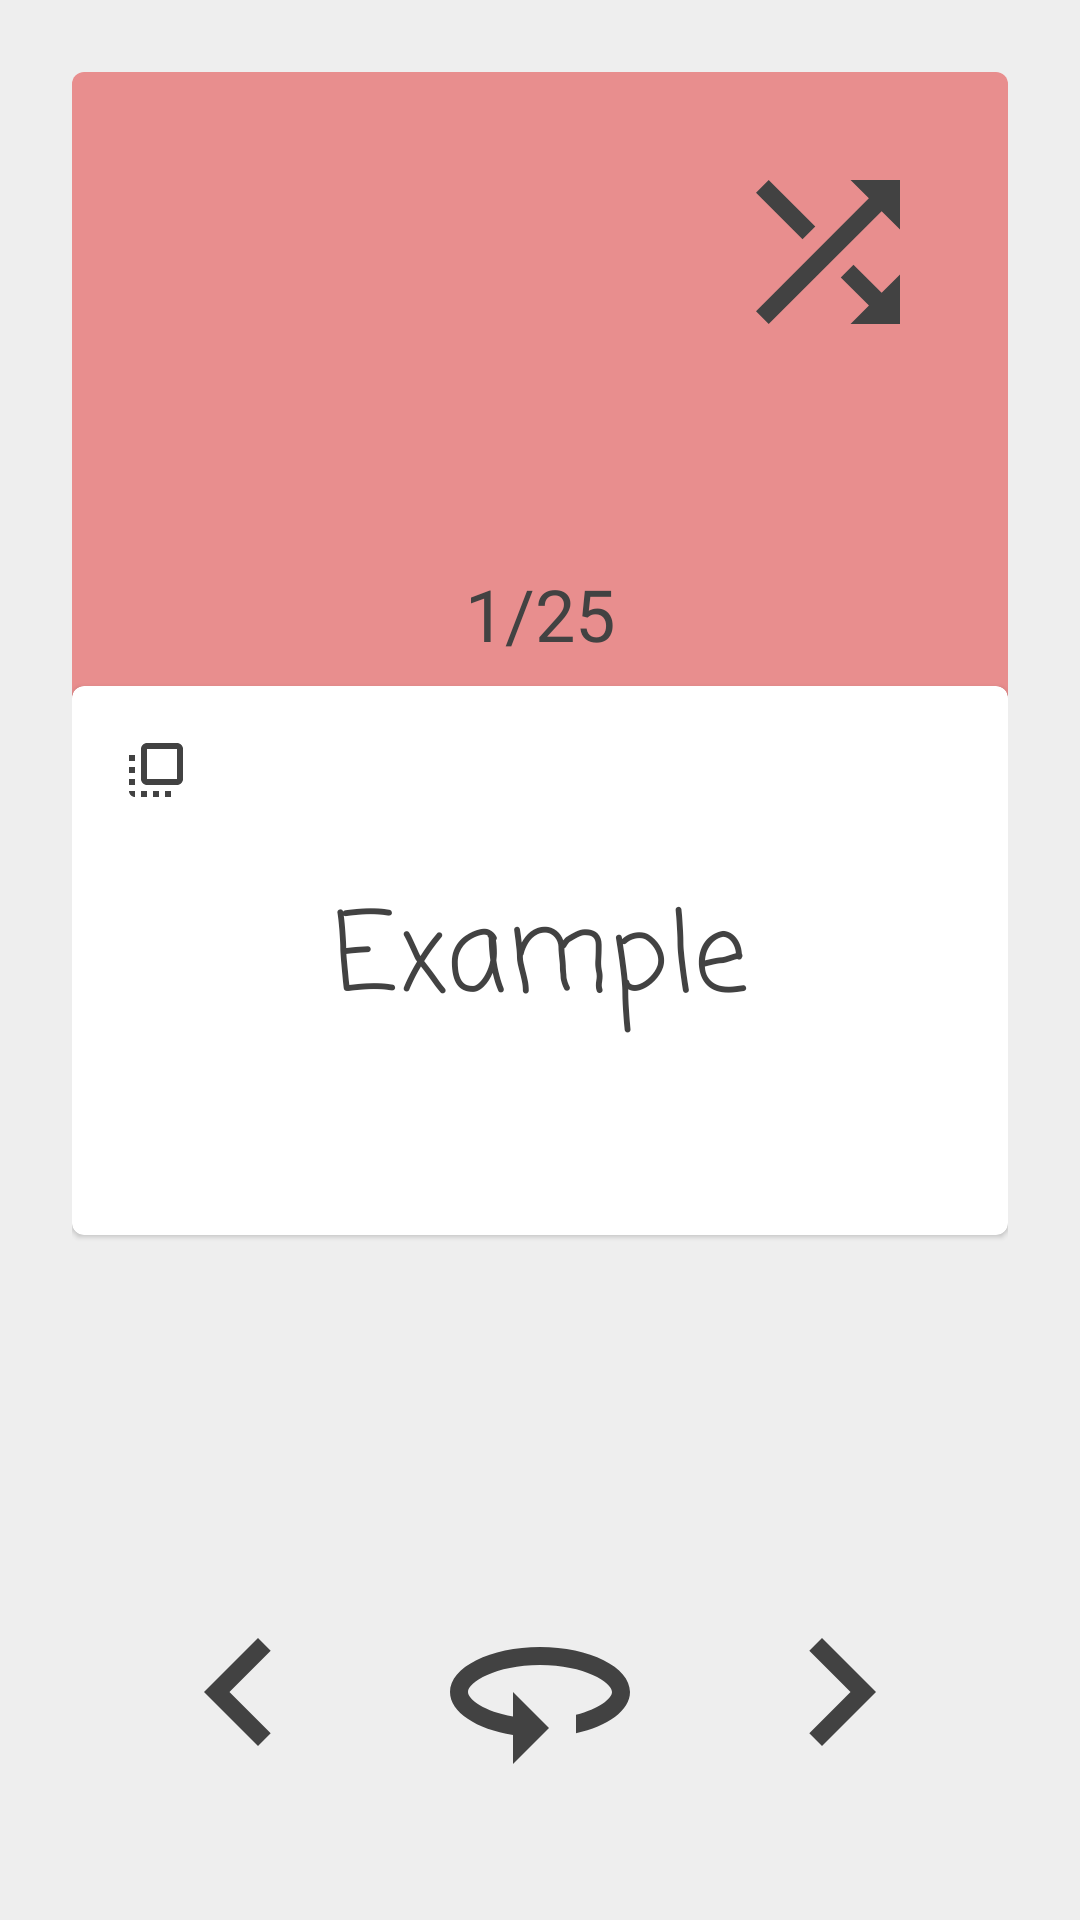

Where to tap for icons on this 1080 x 1920 app screen, as (x,y):
Flip Flashcard: (540,1705)
Left: (237,1692)
Right: (842,1692)
Shuffle Flashcards: (828,252)
